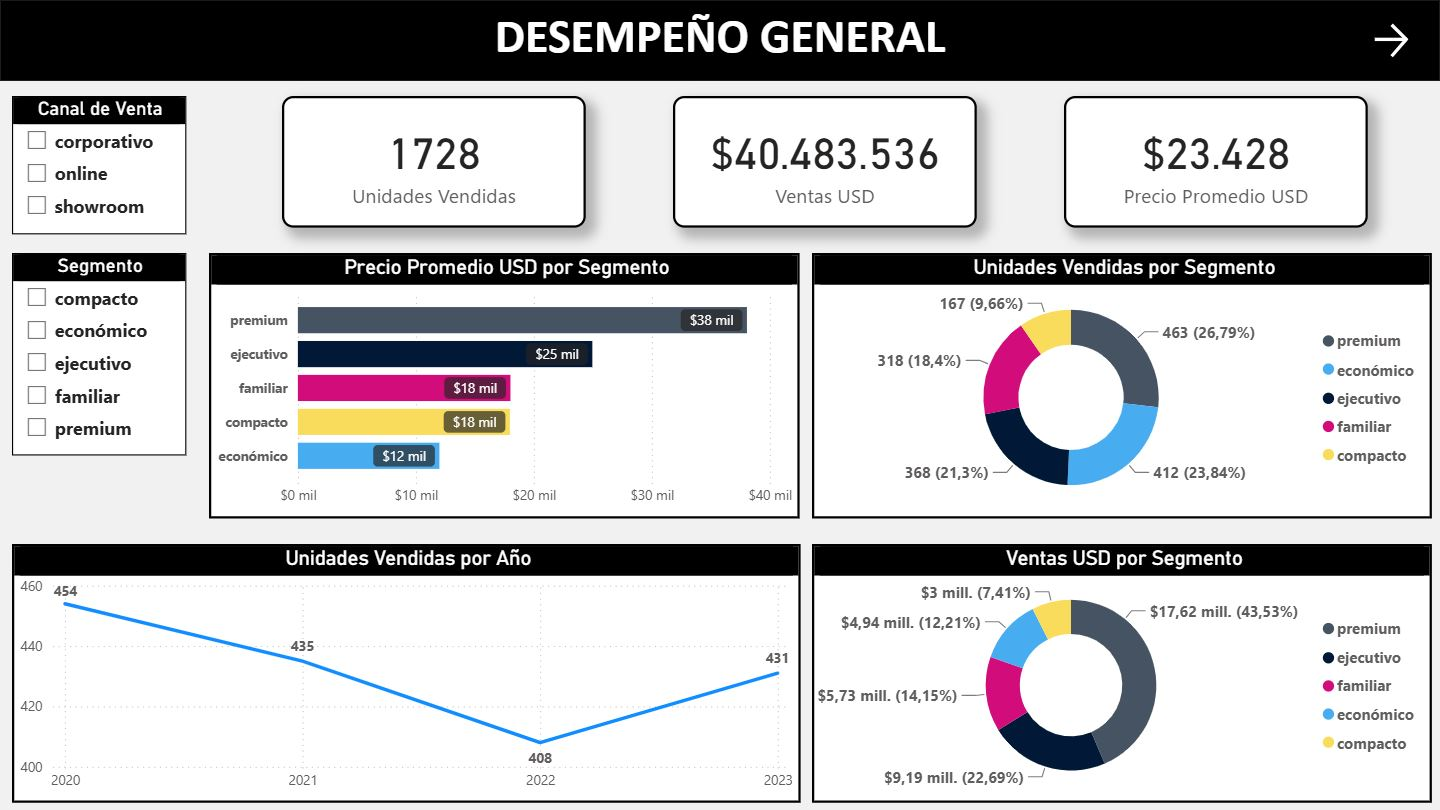

Layout of this report page (visuals, bound fields, positions):
{"tool":"powerbi","page":{"name":"Desempeño Gral","canvas":[1280,720],"ordinal":1},"visuals":[{"type":"card","fields":{"Values":["_Medidas.Unidades Vendidas"]},"box":[250.2,85.7,270.4,117.4],"z":0},{"type":"card","fields":{"Values":["_Medidas.Ventas USD"]},"box":[598.6,85.7,270.4,117.4],"z":1000},{"type":"card","fields":{"Values":["_Medidas.Precio Promedio USD"]},"box":[946,85.7,270.4,117.4],"z":2000},{"type":"lineChart","title":"Unidades Vendidas por Año","fields":{"Category":["Calendario.Año"],"Y":["_Medidas.Unidades Vendidas"]},"box":[10.6,483.1,700.6,230],"z":3000},{"type":"donutChart","title":"Unidades Vendidas por Segmento","fields":{"Category":["dim_segmento.segmento"],"Y":["_Medidas.Unidades Vendidas"]},"box":[721.8,225.2,551.5,235.8],"z":4000},{"type":"donutChart","title":"Ventas USD por Segmento","fields":{"Y":["_Medidas.Ventas USD"],"Category":["dim_segmento.segmento"]},"box":[721.8,483.1,551.5,230],"z":5000},{"type":"slicer","title":"Segmento","fields":{"Values":["dim_segmento.segmento"]},"box":[10.6,225.2,154.9,180],"z":6000},{"type":"slicer","title":"Canal de Venta","fields":{"Values":["dim_canal_venta.canal_venta"]},"box":[10.6,85.7,154.9,123.2],"z":7000},{"type":"textbox","box":[0,0,1280,72.2],"z":8000},{"type":"clusteredBarChart","title":"Precio Promedio USD por Segmento","fields":{"Category":["dim_segmento.segmento"],"Y":["_Medidas.Precio Promedio USD"]},"box":[185.7,225.2,525.5,235.8],"z":9000},{"type":"actionButton","box":[1216,16,44.4,40],"z":9001}]}

Visuals, with their boxes in screenshot pixels (x1, y1, x2, y2), scaled from the page's 1280x720 canvas onto the 1440x810 screenshot:
card - _Medidas.Unidades Vendidas: pyautogui.locateOnScreen(281, 96, 586, 228)
card - _Medidas.Ventas USD: pyautogui.locateOnScreen(673, 96, 978, 228)
card - _Medidas.Precio Promedio USD: pyautogui.locateOnScreen(1064, 96, 1368, 228)
"Unidades Vendidas por Año" lineChart: pyautogui.locateOnScreen(12, 543, 800, 802)
"Unidades Vendidas por Segmento" donutChart: pyautogui.locateOnScreen(812, 253, 1432, 519)
"Ventas USD por Segmento" donutChart: pyautogui.locateOnScreen(812, 543, 1432, 802)
"Segmento" slicer: pyautogui.locateOnScreen(12, 253, 186, 456)
"Canal de Venta" slicer: pyautogui.locateOnScreen(12, 96, 186, 235)
textbox: pyautogui.locateOnScreen(0, 0, 1439, 81)
"Precio Promedio USD por Segmento" clusteredBarChart: pyautogui.locateOnScreen(209, 253, 800, 519)
actionButton: pyautogui.locateOnScreen(1368, 18, 1418, 63)
